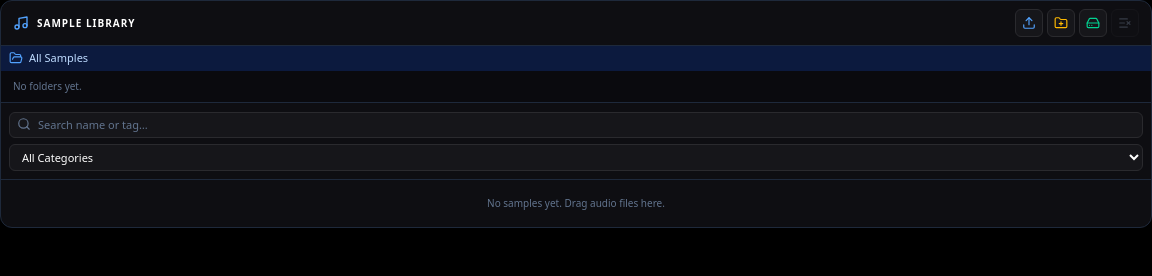
Scenario: SampleBrowser folder linking › reports unsupported browsers instead of failing silently
Step 1. Click the button titled "Link a folder on disk" → coordinates (1093, 23), box [1079,9,1107,37]
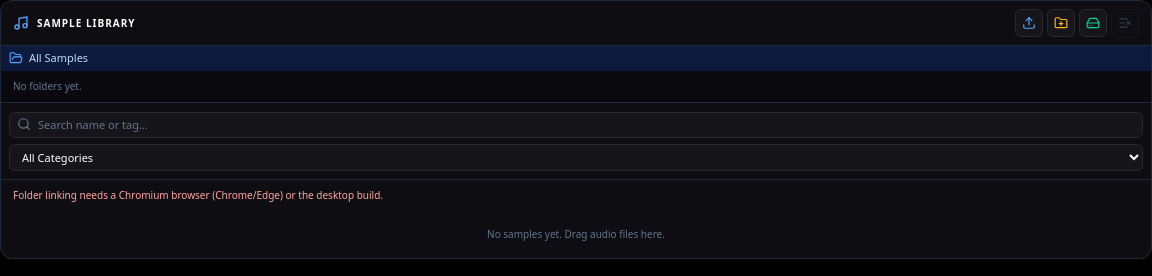
Check: the text "needs a Chromium browser" is shown, box [13,188,383,202]
